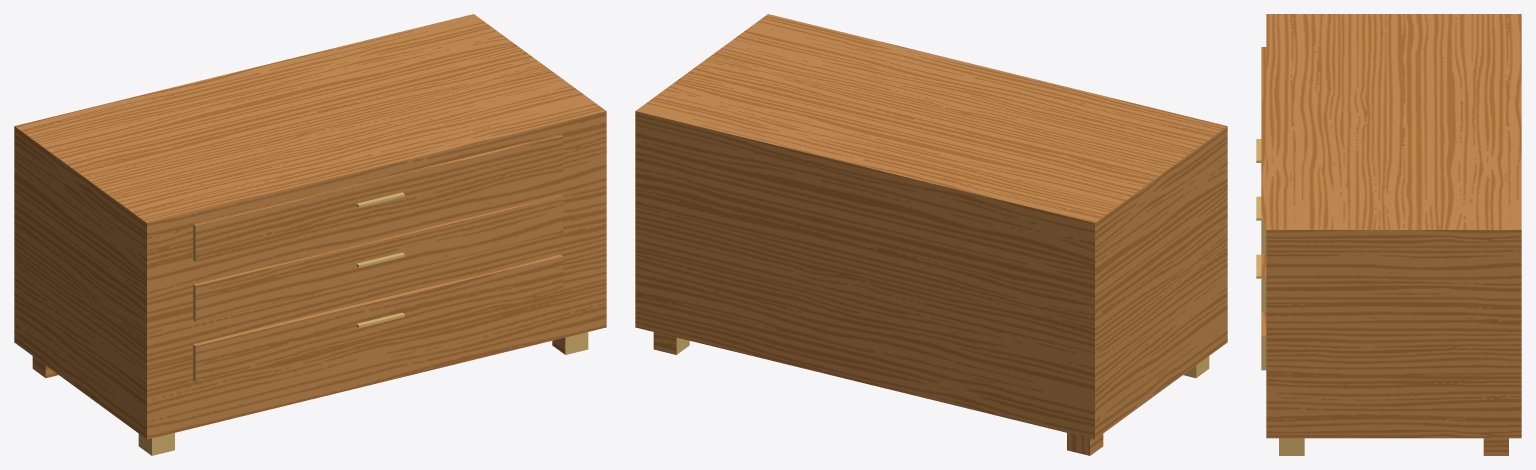
File: Dresser.FBX
The picture shows the model from 3 angles, left to right: view 1: azimuth 30°, elevation 25°; view 2: azimuth 150°, elevation 25°; view 3: azimuth 270°, elevation 25°; orthographic projection. The views are drawn at different scales.
Parts seen in each view (by area): view 1: Box001; view 2: Box001; view 3: Box001.
Boxes of the visible parts, x1,y1,x2,y2 form: Box001: (14, 14, 606, 455); Box001: (635, 14, 1227, 455); Box001: (1256, 14, 1521, 455).
Bounding box in the file's own units: 1000 × 500 × 520.
